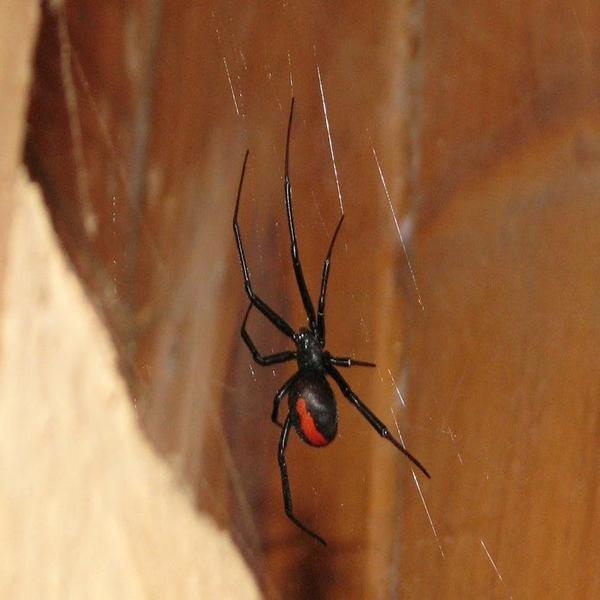Redback Spider: (233, 97, 431, 547)
